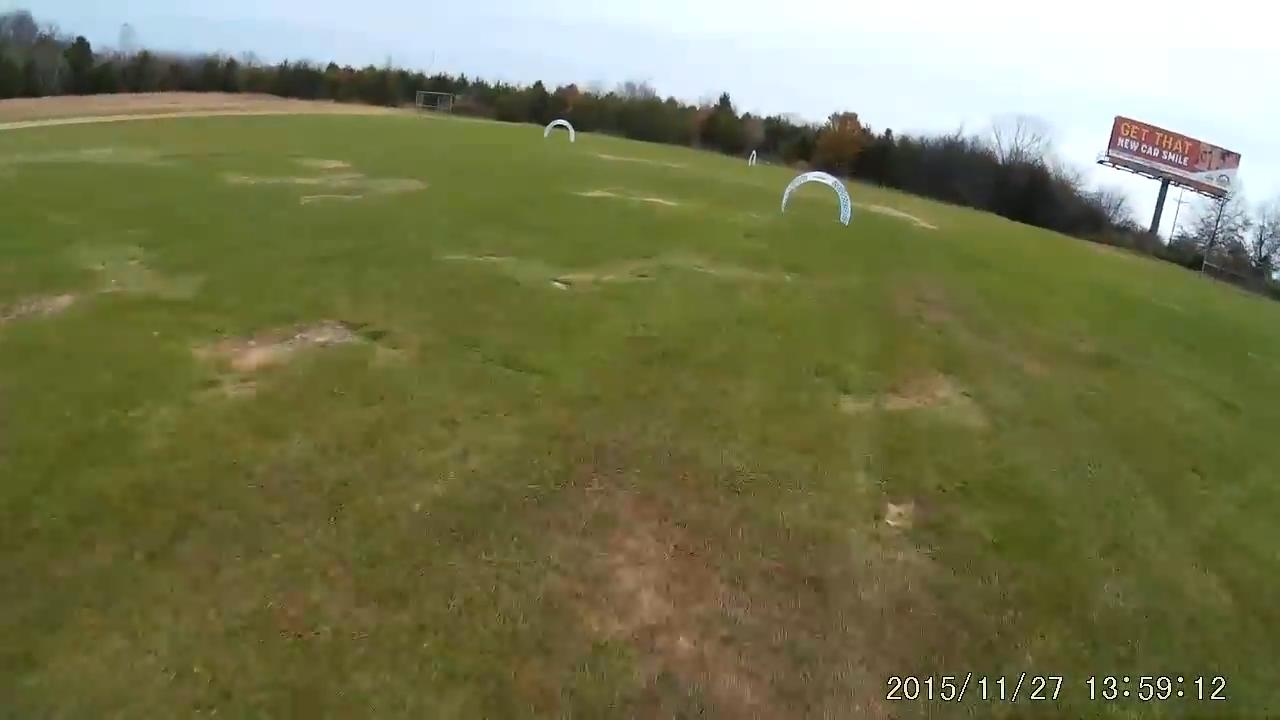gate: (777, 168, 854, 228)
